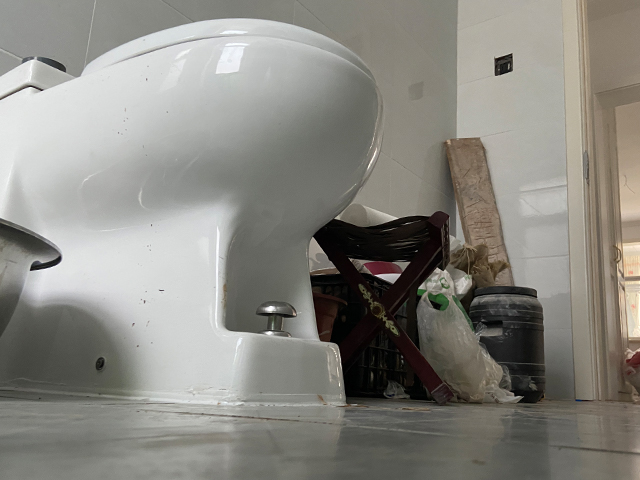closestool: (1, 16, 387, 409)
stool: (312, 210, 455, 405)
